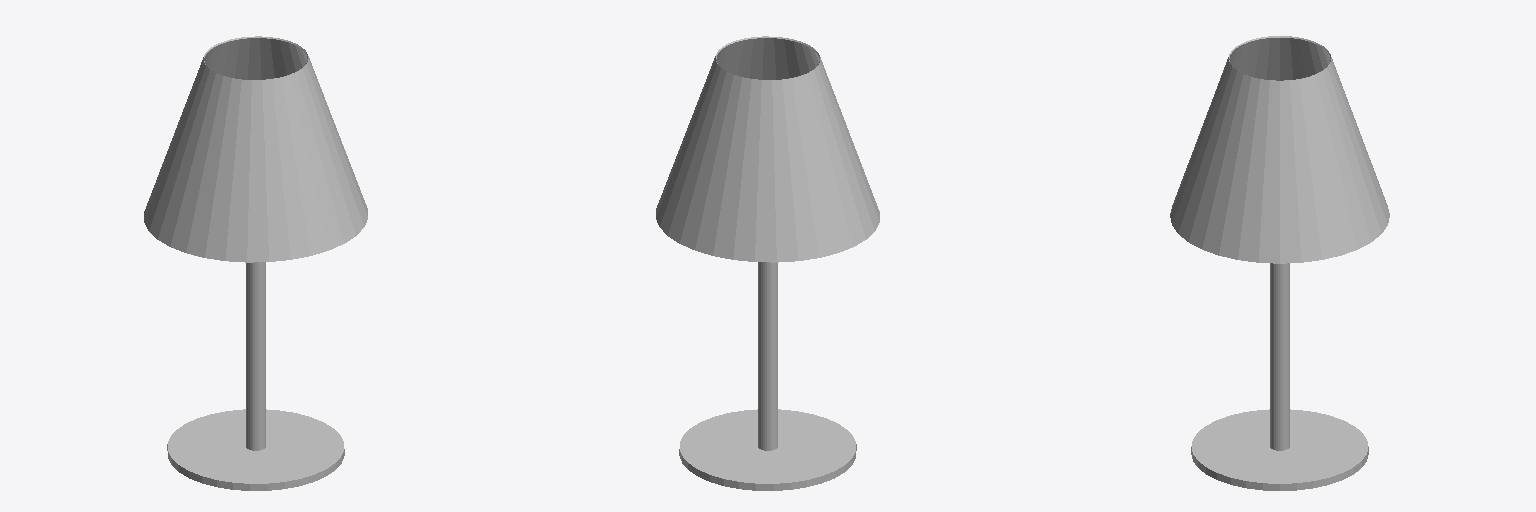
The model's file is homedecor_table_lamp.obj.
3 renders of one model, left to right at view 1: azimuth 30°, elevation 25°; view 2: azimuth 150°, elevation 25°; view 3: azimuth 270°, elevation 25°, orthographic.
Visible parts, largest first — view 1: Circle.000; view 2: Circle.000; view 3: Circle.000.
Part boxes in pixels (bbox=[...]): Circle.000: bbox=[144, 36, 367, 490]; Circle.000: bbox=[656, 36, 879, 490]; Circle.000: bbox=[1170, 36, 1389, 490].
Size of the model in its own units: 0.5198 by 0.9989 by 0.504.